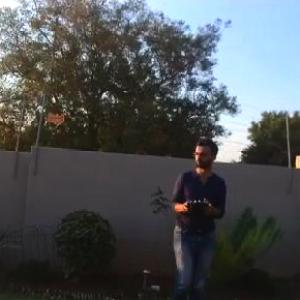follow: (164, 133, 228, 299)
